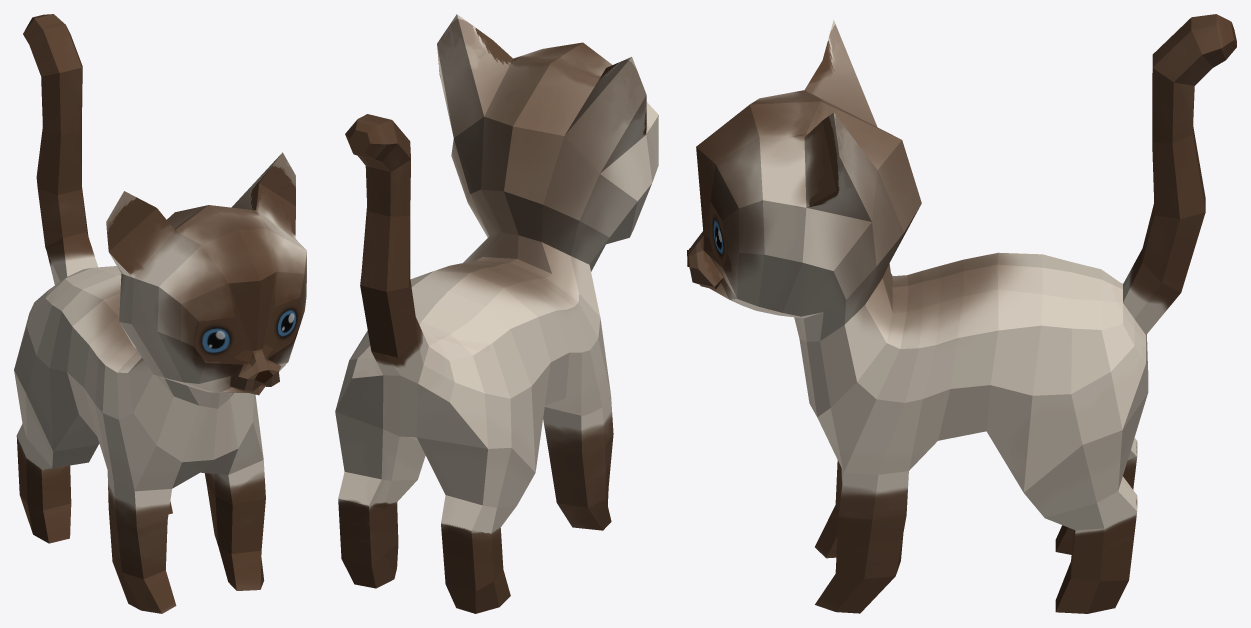
File: cat-01.fbx
3 views of the same model, side by side, from view 1: azimuth 30°, elevation 25°; view 2: azimuth 150°, elevation 25°; view 3: azimuth 270°, elevation 25° (orthographic). The views are drawn at different scales.
Parts seen in each view (by area): view 1: Cat; view 2: Cat; view 3: Cat.
Part boxes in pixels (<box>): Cat: <box>14,14,306,613</box>; Cat: <box>335,14,658,613</box>; Cat: <box>687,14,1236,613</box>.
Bounding box in the file's own units: 93.06 × 217 × 194.
